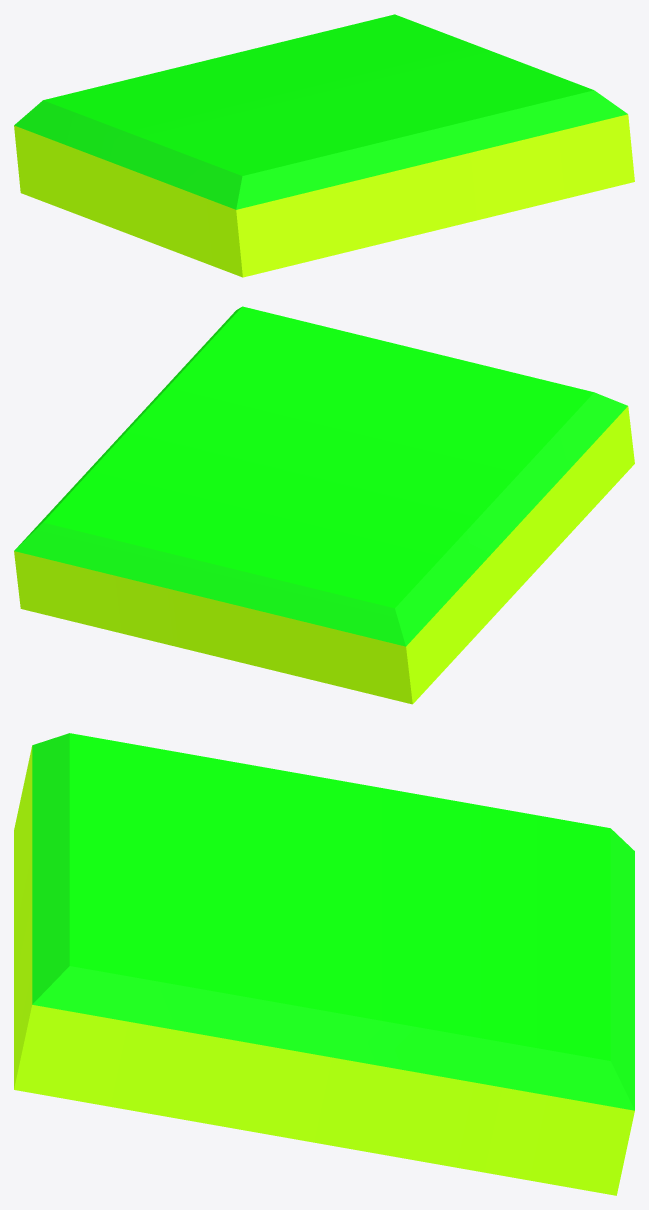
Rendered from ButtonC.glb.
3 renders of one model, top to bottom at view 1: azimuth 30°, elevation 25°; view 2: azimuth 150°, elevation 25°; view 3: azimuth 270°, elevation 25°, orthographic. The views are drawn at different scales.
Visible parts, largest first — view 1: ButtonC; view 2: ButtonC; view 3: ButtonC.
Part boxes in pixels (x1,y1,x2,y2): ButtonC: (14,14,634,277); ButtonC: (14,306,634,704); ButtonC: (14,733,634,1195).
Bounding box in the file's own units: 0.5336 × 0.2077 × 0.5397.
1 material, 1 textured.
